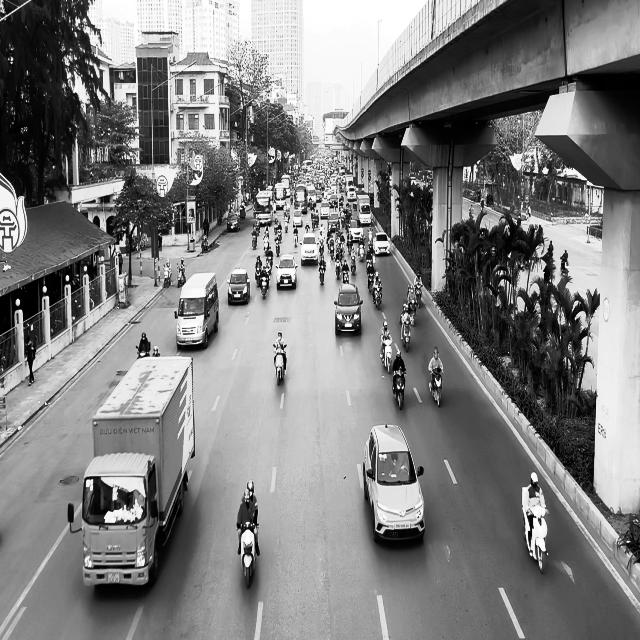car: (363, 423, 425, 544), (333, 282, 362, 334), (227, 268, 250, 304), (275, 253, 298, 289), (300, 232, 318, 266), (373, 232, 390, 255), (227, 212, 240, 232)
motorbike: (521, 505, 549, 574), (237, 522, 259, 588), (272, 343, 286, 385), (392, 369, 406, 410), (429, 369, 443, 407), (380, 338, 392, 373), (400, 313, 411, 351), (259, 271, 269, 299)
truck: (68, 354, 196, 588)
